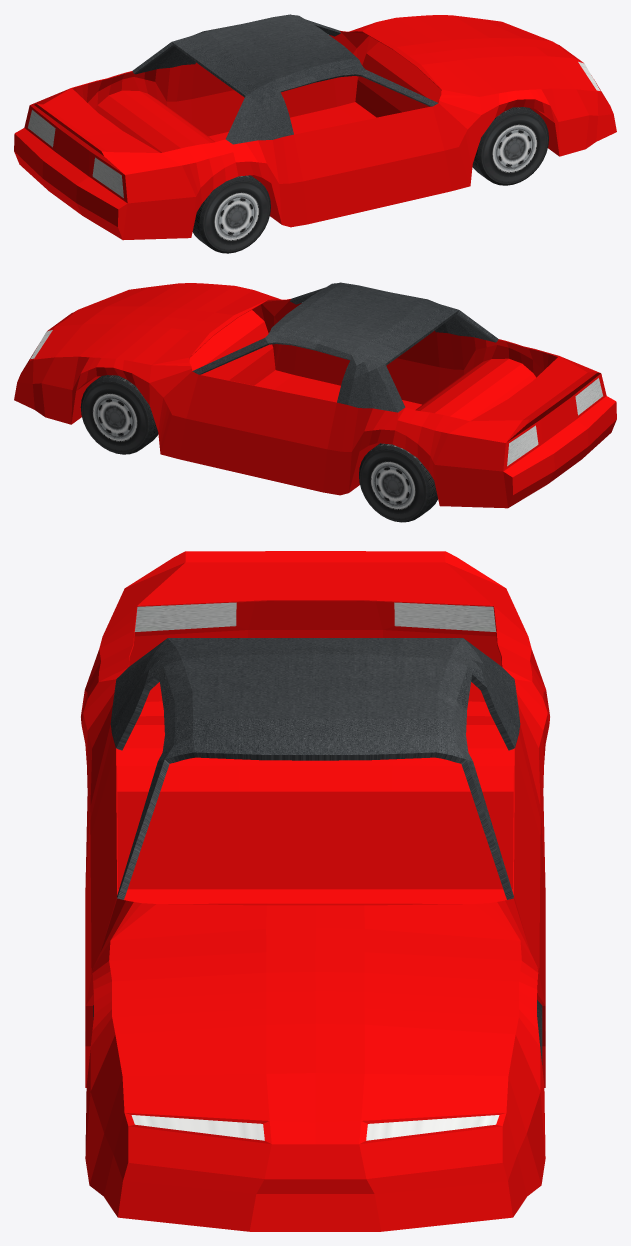
Rendered from Pontiax.fbx.
The picture shows the model from 3 angles, top to bottom: view 1: azimuth 30°, elevation 25°; view 2: azimuth 150°, elevation 25°; view 3: azimuth 270°, elevation 25°; orthographic projection. The views are drawn at different scales.
Parts seen in each view (by area): view 1: car, back_right, front_right; view 2: car, back_left, front_left; view 3: car.
Boxes of the visible parts, box(x1,y1,x2,y2) form: car: box(14, 14, 616, 240); back_right: box(192, 175, 270, 253); front_right: box(472, 107, 548, 185); car: box(14, 282, 616, 508); back_left: box(359, 443, 437, 522); front_left: box(80, 375, 158, 454); car: box(81, 551, 549, 1231).
Size of the model in its own units: 392 by 103 by 152.
